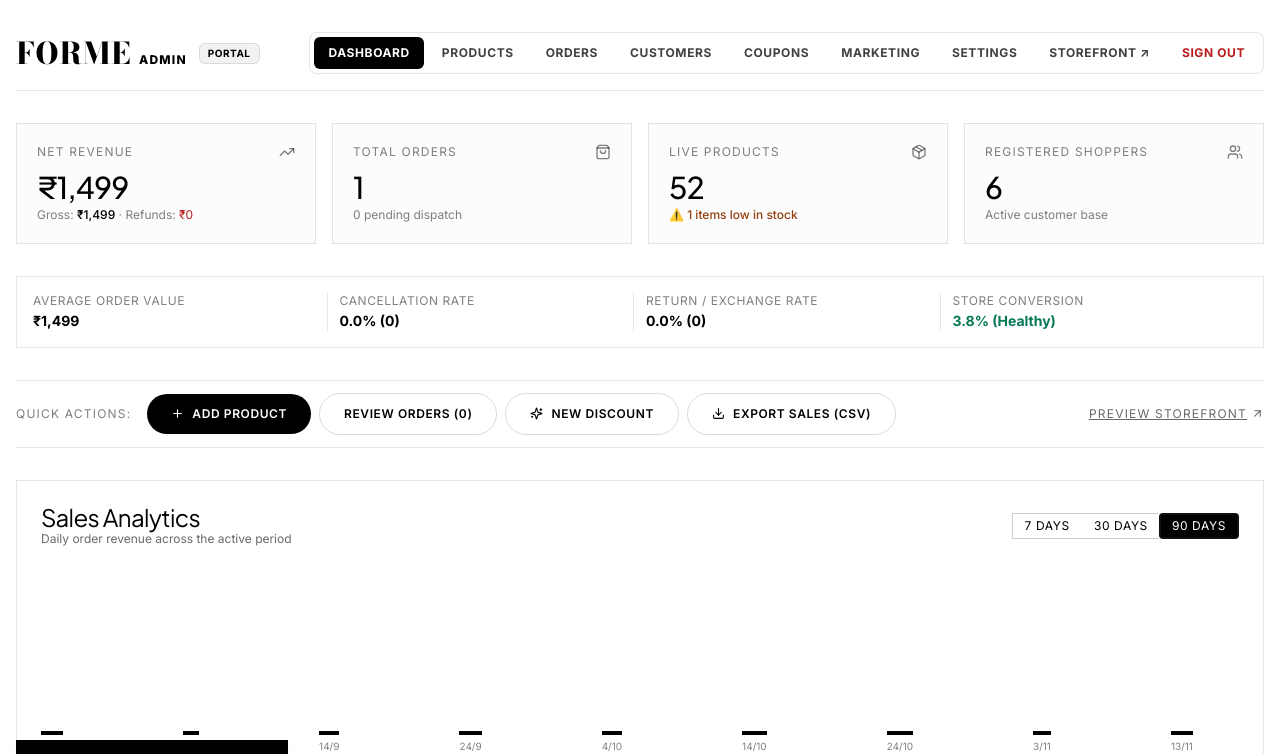
Test: Deep Demo Audit: Navigation, Browsing, User Flows & Admin Controls › 7. Admin Portal: dashboard metrics, period toggle, and nav links
Earlier steps of the test are not shown.
Click the button "7 Days" at (1047, 526), box [1013,514,1082,538]
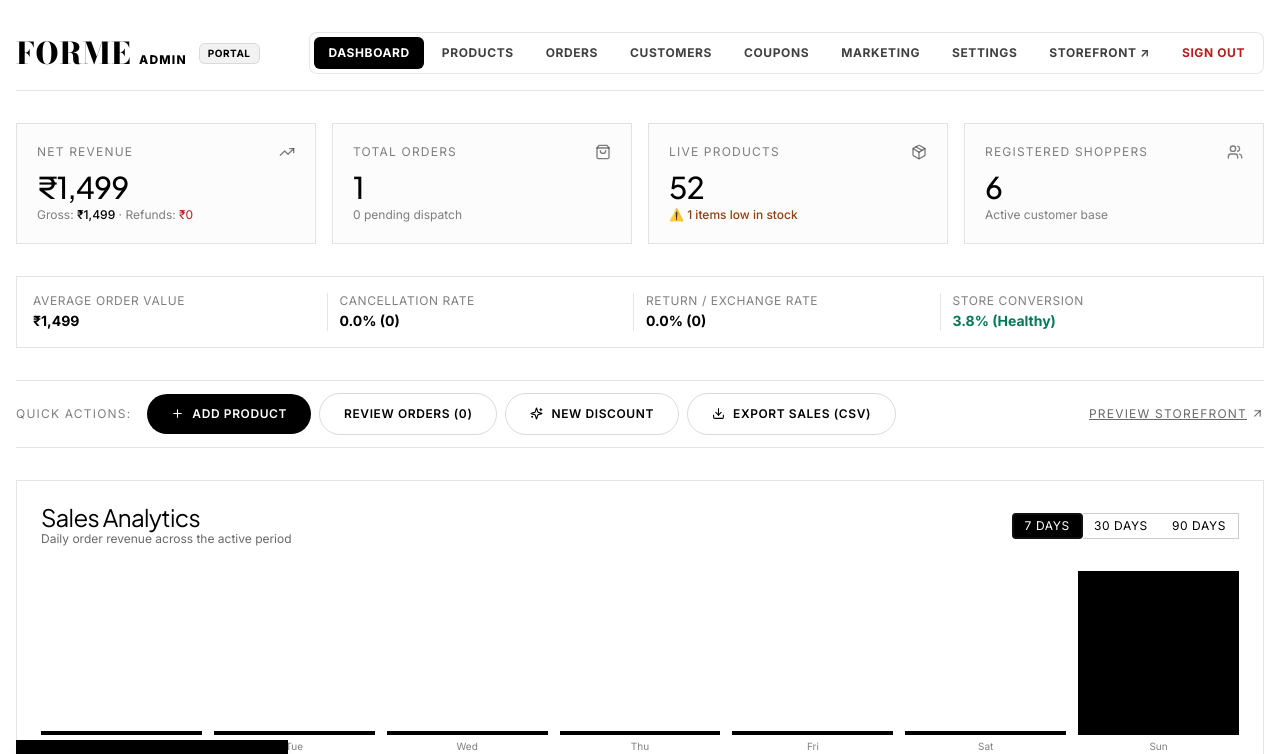
// Products Management
Click the link "Products" at (478, 52), box [442,45,514,60]
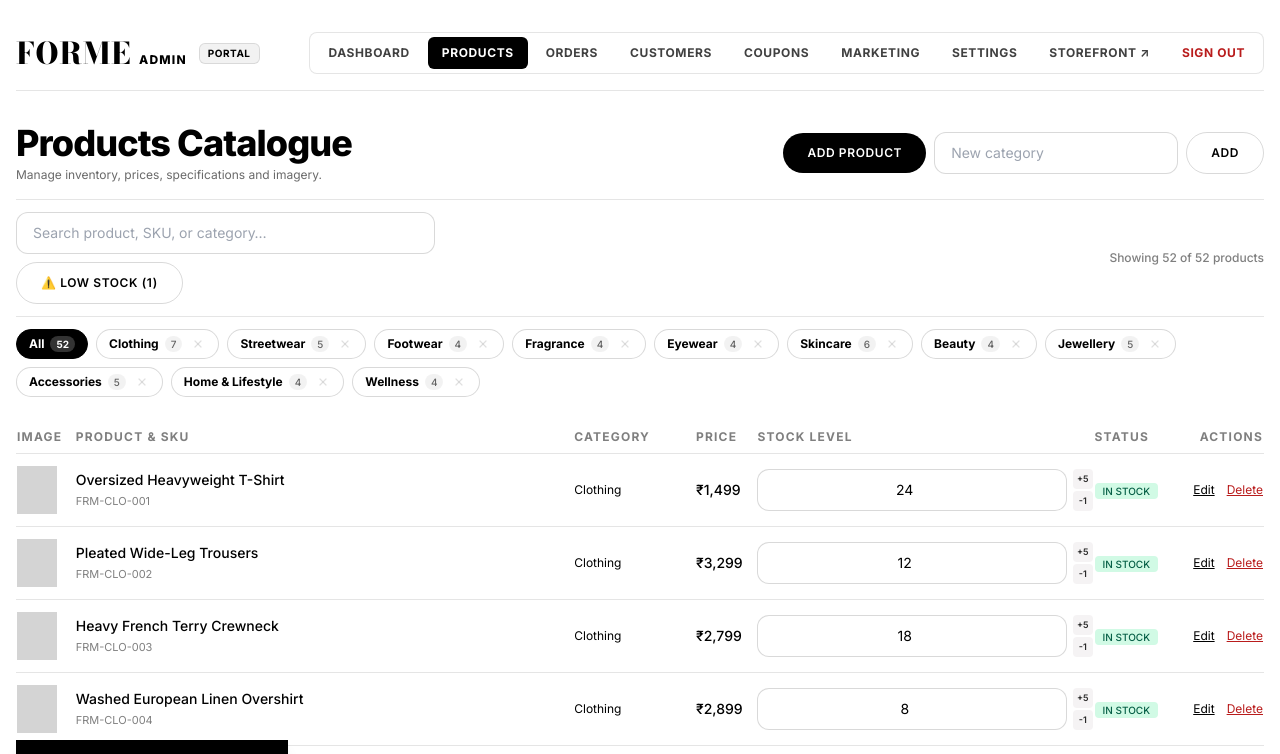
Expected: the heading "Products Catalogue" is shown, [16,123,352,163]
// Orders Management
Click the link "Orders" at (572, 52), box [546,45,598,60]
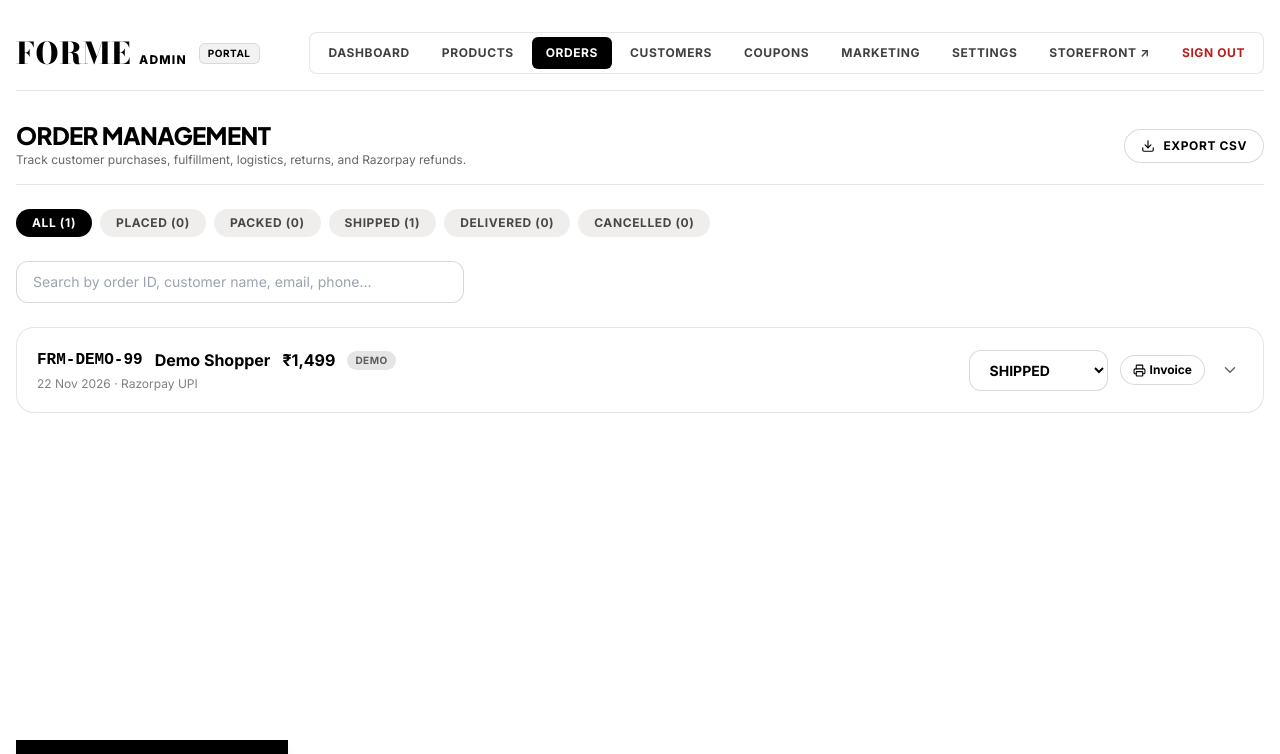
Expected: the heading "Order Management" is shown, [16,120,270,150]
// Customers Management
Click the link "Customers" at (671, 52), box [630,45,712,60]
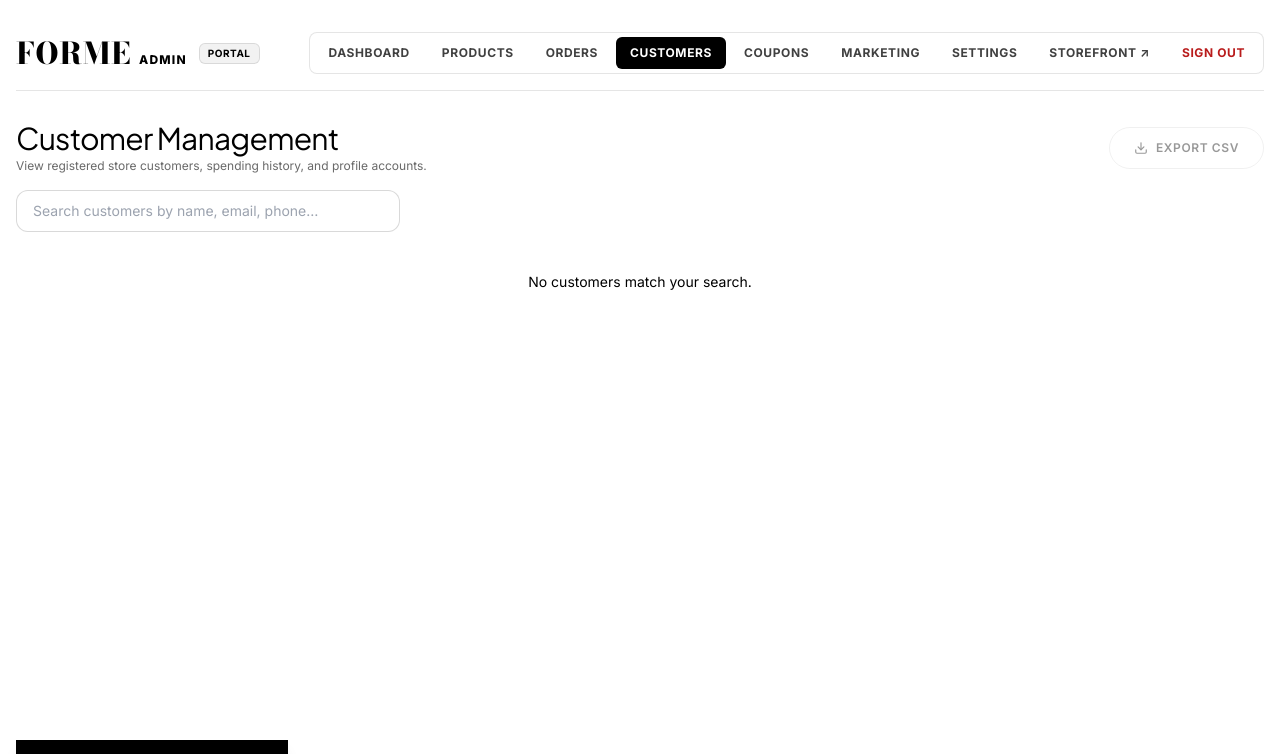
Expected: the heading "Customer Management" is shown, [16,119,339,157]
Click the link "Marketing" at (881, 52), box [841,45,920,60]
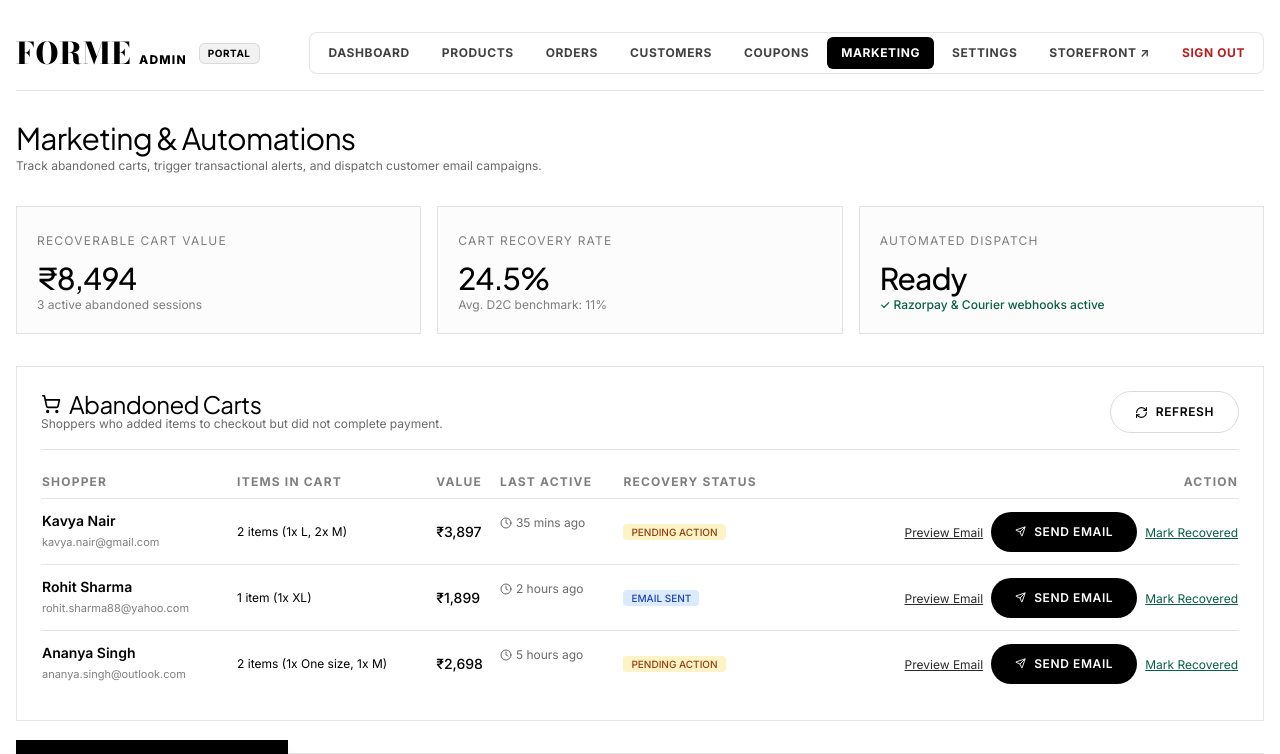
Expected: the heading "Marketing & Automations" is shown, [16,119,355,157]
Click the link "Settings" at (985, 52), box [952,45,1017,60]
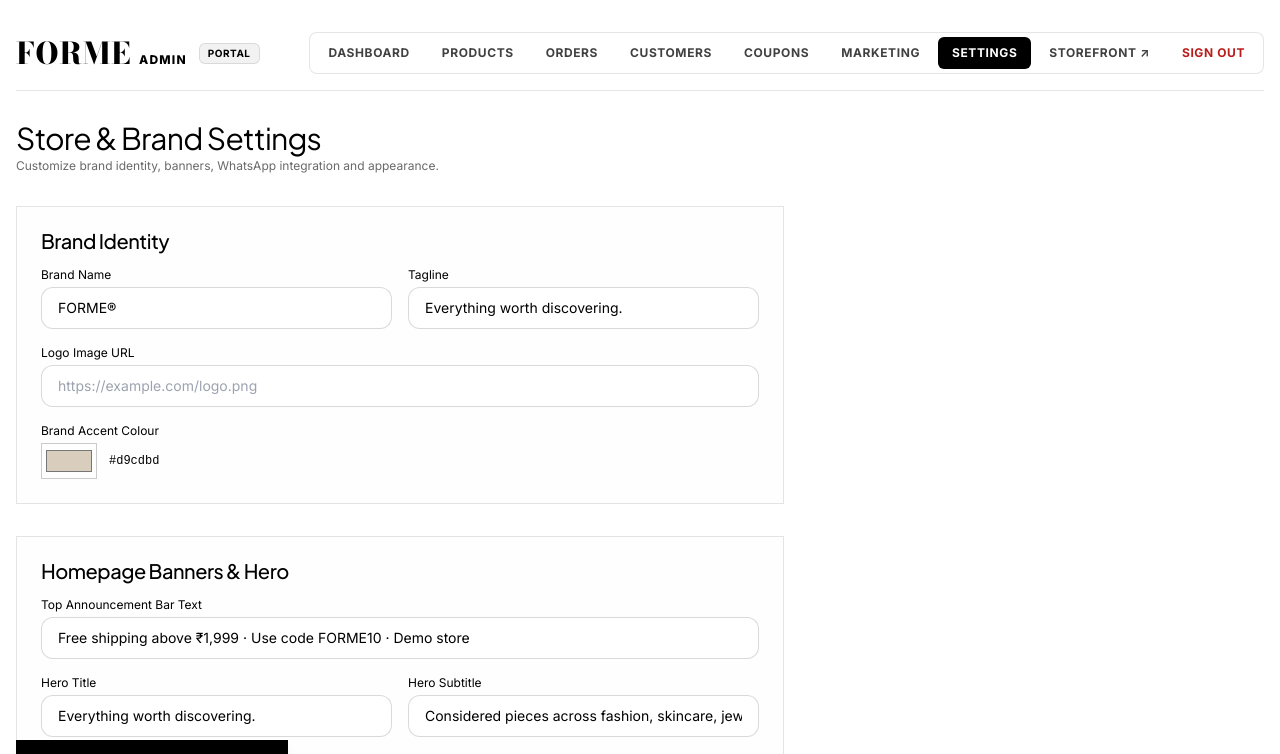
Expected: the heading "Store & Brand Settings" is shown, [16,119,321,157]
